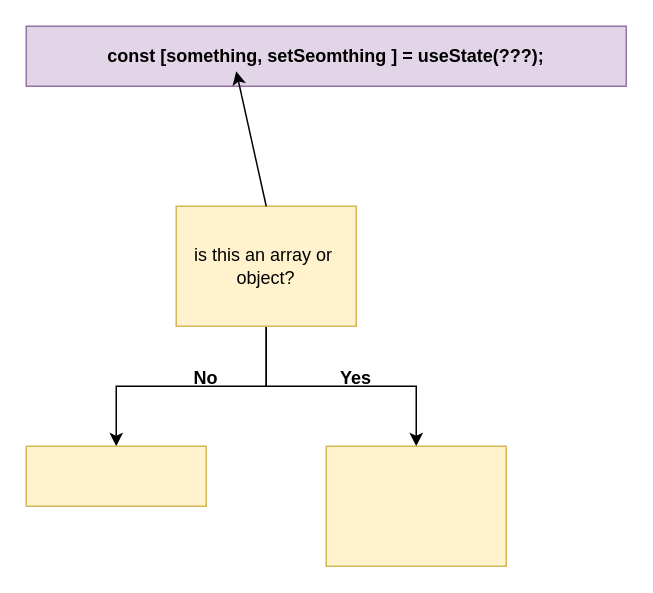
Image size: 653x593. Some labels were removed from this diagram. Each missing label, with the box of its shape:
Great!: (25, 445, 206, 506)
You have to be very careful in how you update this piece of State: (325, 445, 506, 566)
